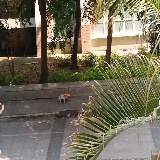fire: (64, 94, 71, 98)
